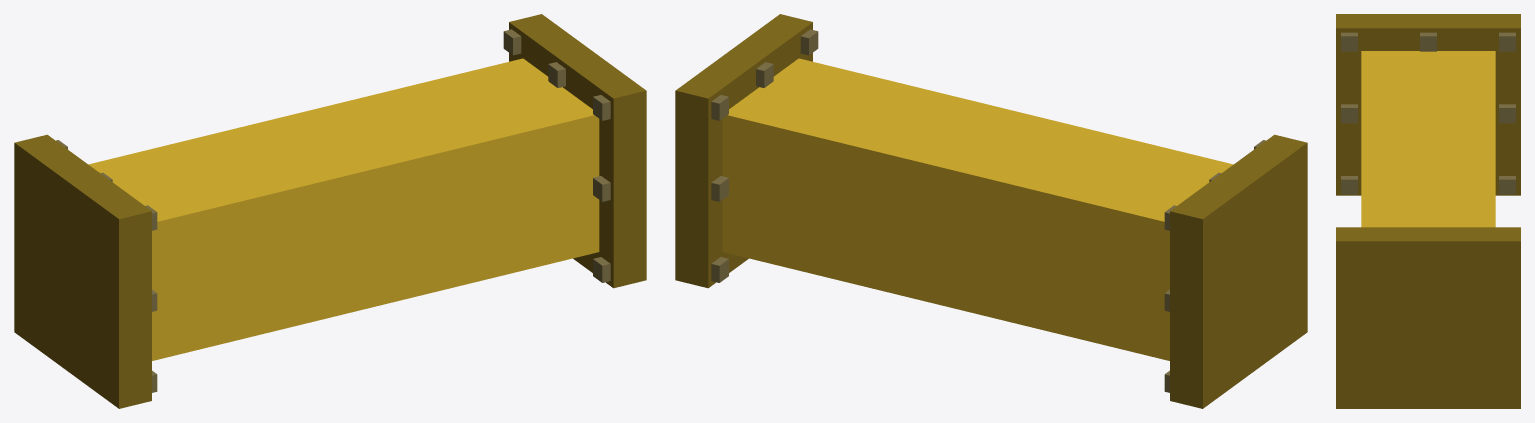
Rendered from steampipe_inventory.obj.
The picture shows the model from 3 angles, left to right: view 1: azimuth 30°, elevation 25°; view 2: azimuth 150°, elevation 25°; view 3: azimuth 270°, elevation 25°; orthographic projection. The views are drawn at different scales.
Size of the model in its own units: 1 by 0.3438 by 0.3438.
